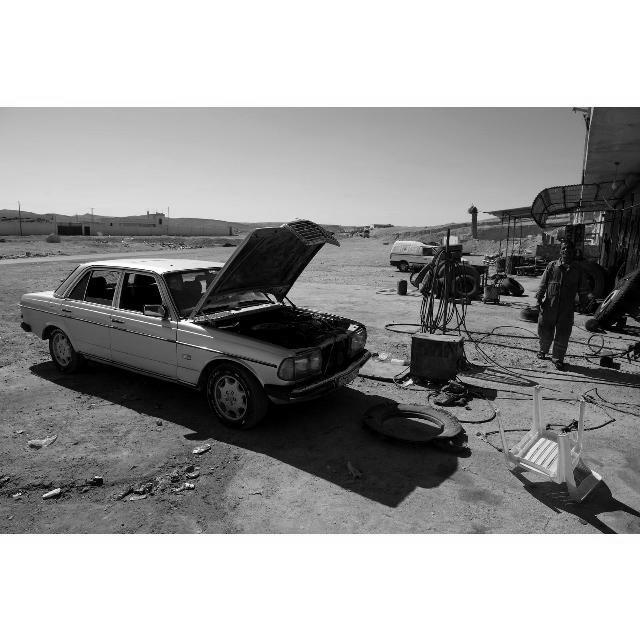front-bumper-dent: (275, 347, 372, 404)
